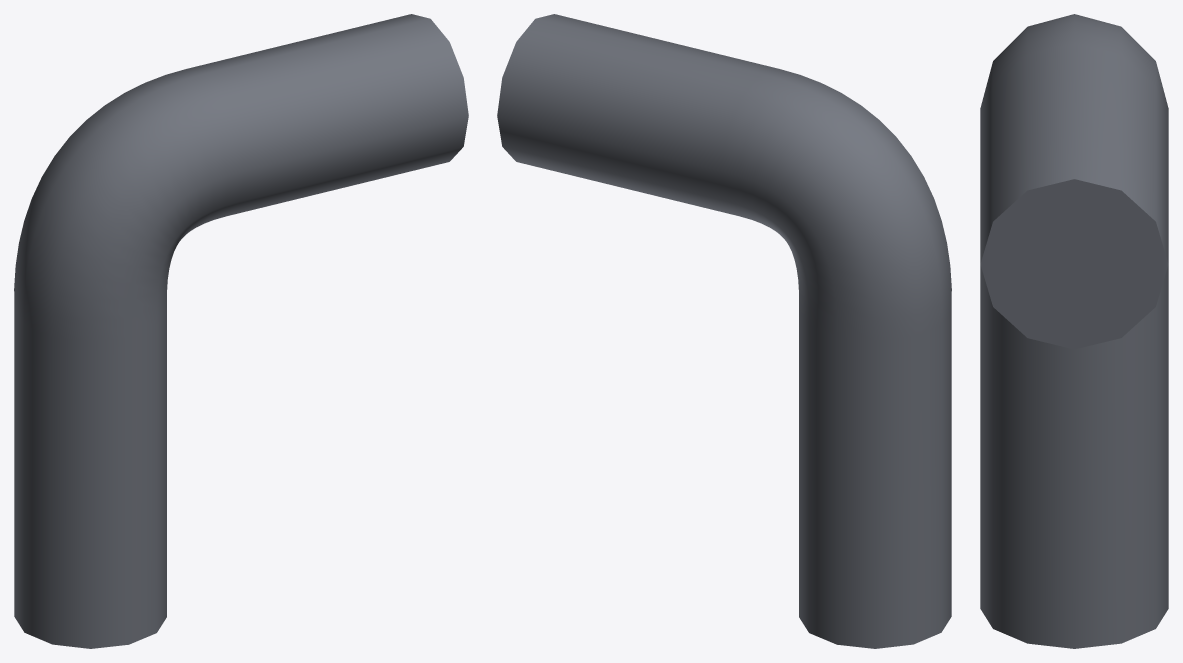
Rendered from m_gutter_angle.FBX.
3 views of the same model, side by side, from view 1: azimuth 30°, elevation 25°; view 2: azimuth 150°, elevation 25°; view 3: azimuth 270°, elevation 25° (orthographic). The views are drawn at different scales.
Visible parts, largest first — view 1: gutter_angle_little; view 2: gutter_angle_little; view 3: gutter_angle_little.
Part boxes in pixels (bbox=[...]): gutter_angle_little: bbox=[14, 14, 468, 648]; gutter_angle_little: bbox=[497, 14, 951, 648]; gutter_angle_little: bbox=[980, 14, 1168, 648].
Size of the model in its own units: 15.35 by 18.61 by 5.
